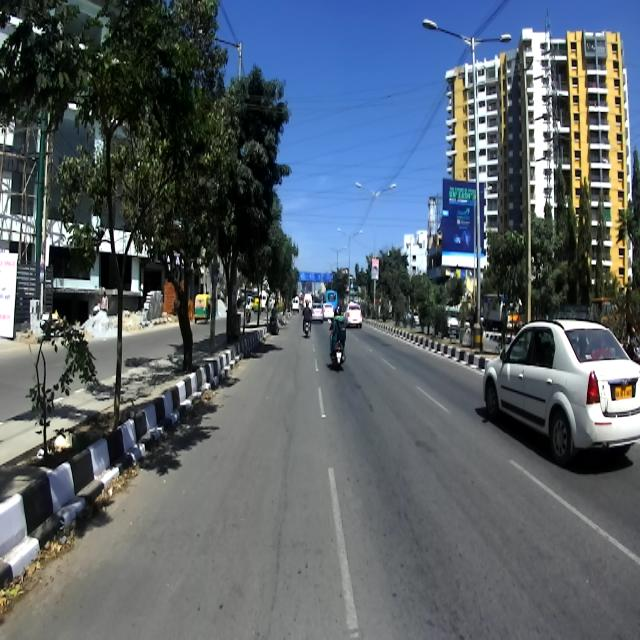car ahead at: (474, 315, 640, 458)
tree ahead at: (38, 2, 206, 447)
